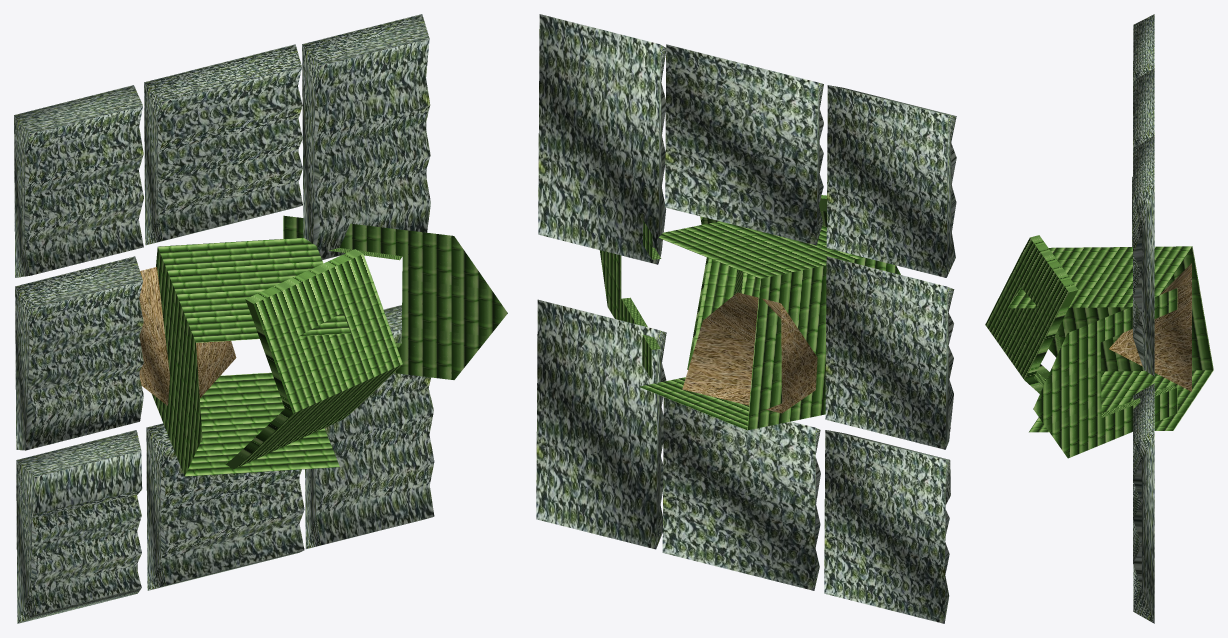
File: farm_000015.obj
3 renders of one model, left to right at view 1: azimuth 30°, elevation 25°; view 2: azimuth 150°, elevation 25°; view 3: azimuth 270°, elevation 25°, orthographic. The views are drawn at different scales.
Visible parts, largest first — view 1: Cube.004_Cube.006, house.002_Cube.002, house_Cube, house.001_Cube.001, Cone; view 2: Cube.004_Cube.006, house.002_Cube.002, Cone, house_Cube, house.001_Cube.001; view 3: Cube.004_Cube.006, house.002_Cube.002, house.001_Cube.001, house_Cube, Cone.
Part boxes in pixels (x1,y1,x2,y2): Cube.004_Cube.006: (14, 14, 434, 623); house.002_Cube.002: (152, 237, 350, 476); house_Cube: (226, 249, 402, 468); house.001_Cube.001: (283, 215, 507, 379); Cone: (139, 267, 236, 405); Cube.004_Cube.006: (536, 14, 956, 623); house.002_Cube.002: (639, 221, 900, 430); Cone: (682, 292, 817, 413); house_Cube: (687, 195, 826, 369); house.001_Cube.001: (599, 220, 661, 379); Cube.004_Cube.006: (1132, 14, 1154, 623); house.002_Cube.002: (1008, 246, 1213, 432); house.001_Cube.001: (1033, 288, 1177, 458); house_Cube: (985, 235, 1077, 393); Cone: (1109, 263, 1191, 391).
Size of the model in its own units: 8.66 by 10 by 4.68.
